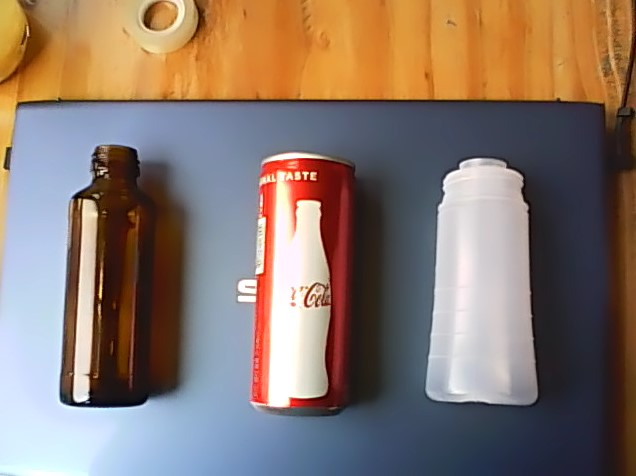Can: (244, 151, 358, 421)
Glass: (54, 140, 160, 409)
Plastic: (419, 155, 543, 411)
